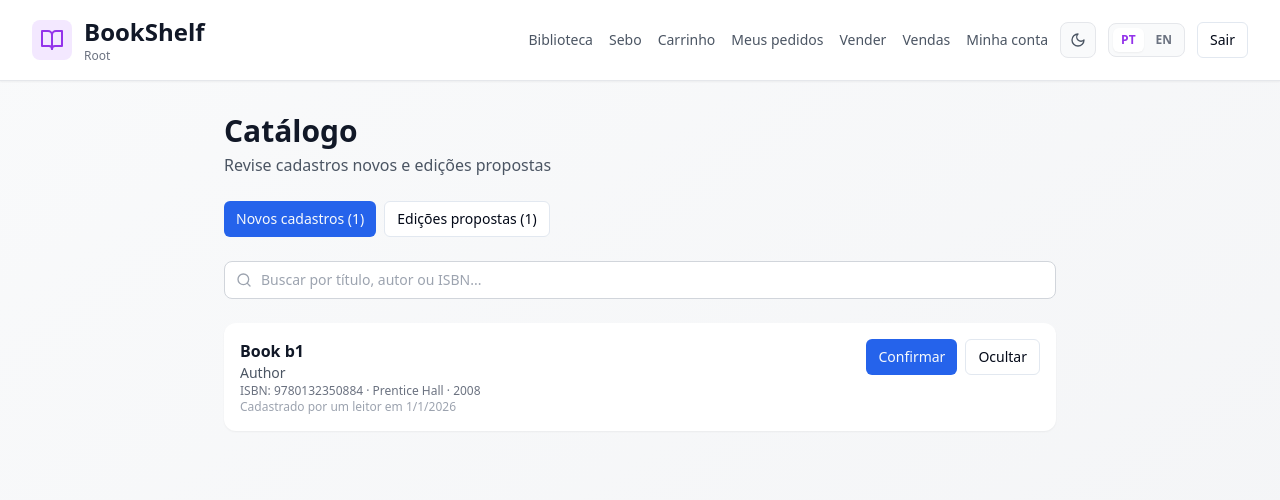
Test: AdminCatalogPage proposed edits › shows the localised error when a decision fails
The width and height of the screenshot is (1280, 500).
Expected: the list item with test id "catalog-book-b1" is shown, [224,323,1056,431]
Click the tab with test id "catalog-tab-revisions" at (467, 219), box [384,201,550,237]
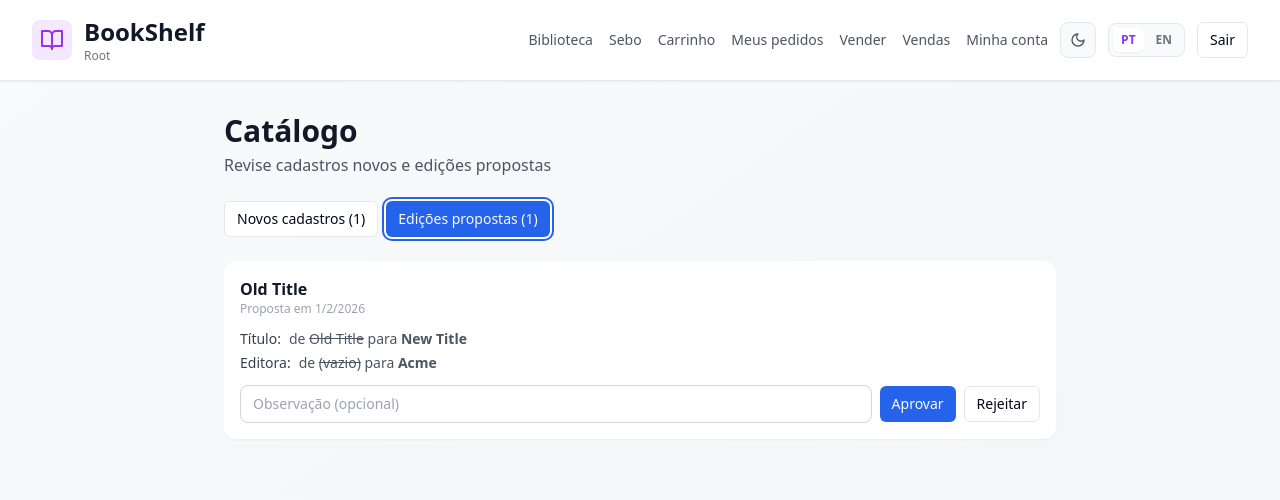
Click the button with test id "catalog-approve-r1" at (918, 404), box [880,386,956,422]
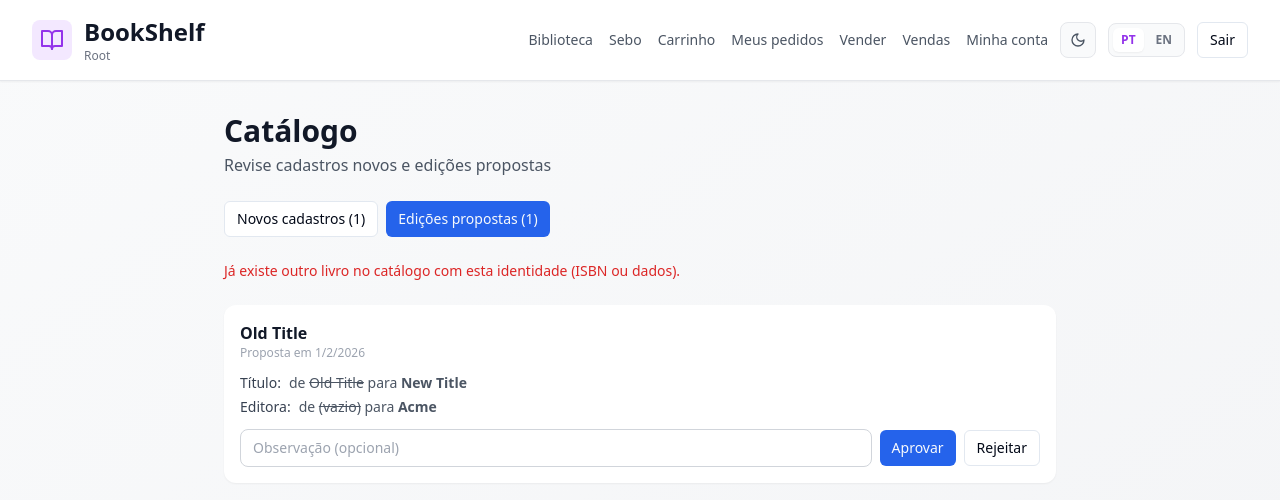
Now the list item with test id "catalog-revision-r1" is shown, box [224,305,1056,483]
Now the message with test id "catalog-error" shows "Já existe outro livro no catálogo", box [224,261,680,280]
